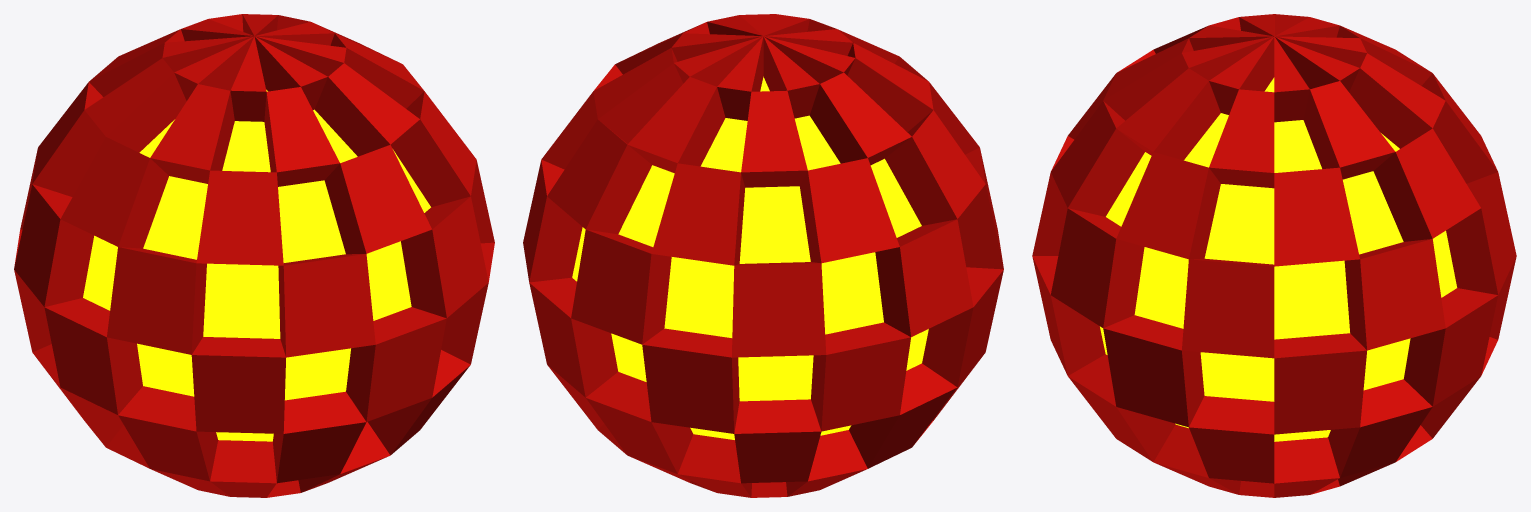
Rendered from RangeEnemyAttack.fbx.
3 renders of one model, left to right at view 1: azimuth 30°, elevation 25°; view 2: azimuth 150°, elevation 25°; view 3: azimuth 270°, elevation 25°, orthographic.
Parts seen in each view (by area): view 1: RangeEnemy Attack; view 2: RangeEnemy Attack; view 3: RangeEnemy Attack.
Part boxes in pixels (left/top/right/bottom): RangeEnemy Attack: left=14, top=14, right=494, bottom=497; RangeEnemy Attack: left=523, top=14, right=1003, bottom=497; RangeEnemy Attack: left=1032, top=14, right=1516, bottom=497.
Size of the model in its own units: 60.46 by 60.46 by 60.46.
